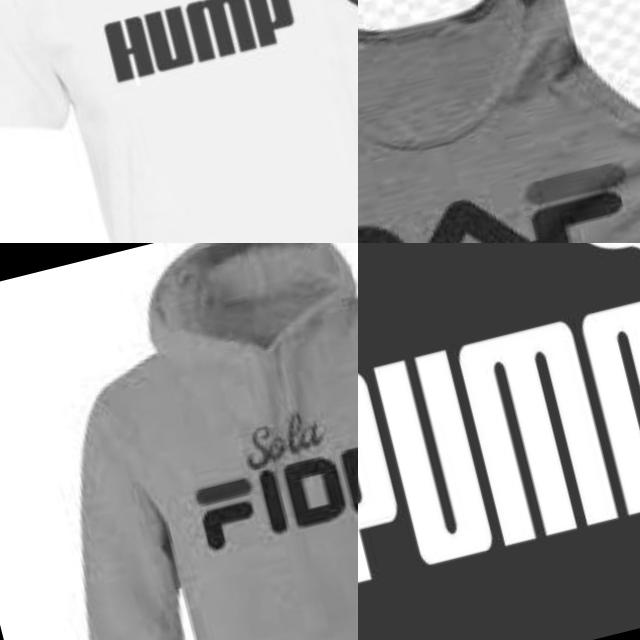FILA_fake: (358, 132, 640, 243), (169, 416, 358, 565)
PUMA_fake: (85, 0, 358, 104)
PUMA_original: (358, 243, 640, 608)
